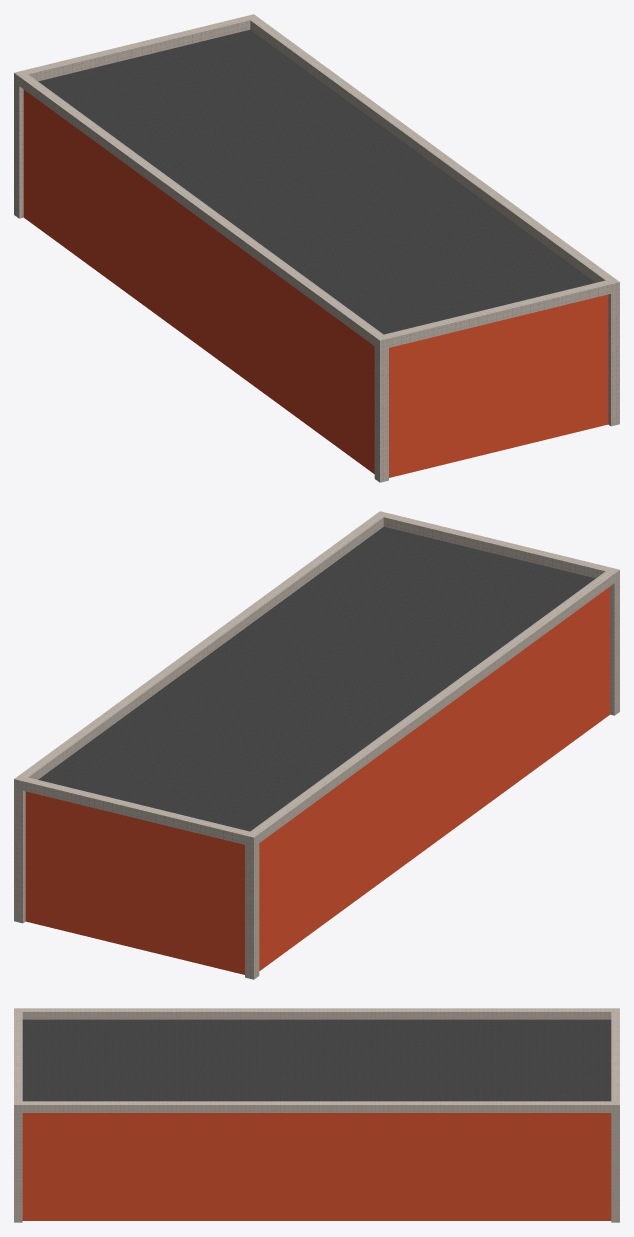
File: OfficeBuildingD.FBX
3 renders of one model, top to bottom at view 1: azimuth 30°, elevation 25°; view 2: azimuth 150°, elevation 25°; view 3: azimuth 270°, elevation 25°, orthographic. The views are drawn at different scales.
Parts seen in each view (by area): view 1: Facade, Roof, Border; view 2: Facade, Roof, Border; view 3: Facade, Roof, Border.
Boxes of the visible parts, x1,y1,x2,y2 form: Facade: (23,89,608,477); Roof: (38,30,595,334); Border: (14,14,619,482); Facade: (25,586,610,974); Roof: (38,527,595,831); Border: (14,511,619,979); Facade: (22,1113,611,1220); Roof: (22,1019,611,1101); Border: (14,1008,619,1222).
Size of the model in its own units: 3786 by 2143 by 10000.
